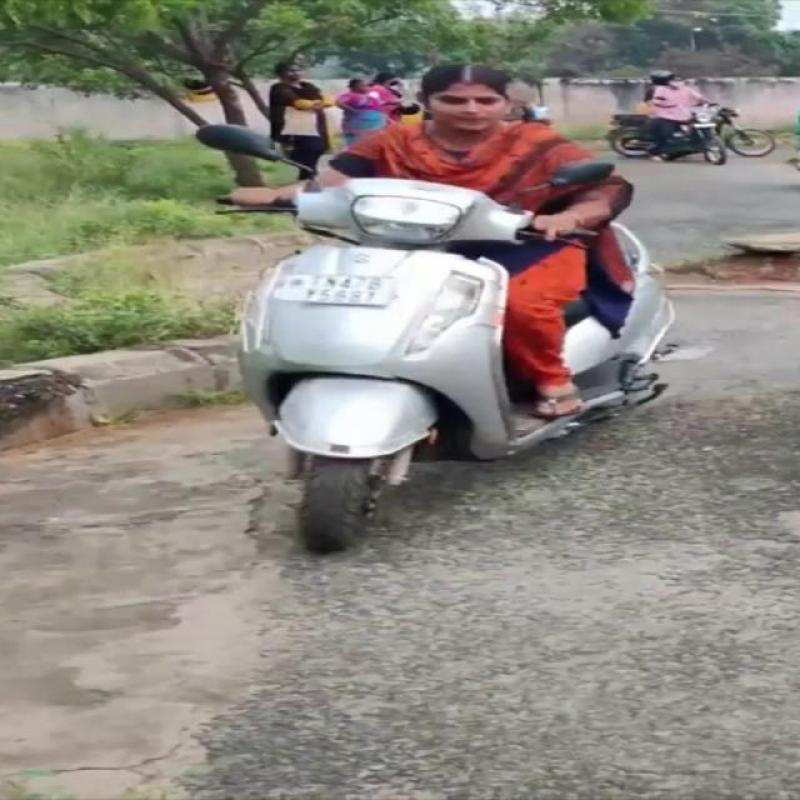nohelmet: (401, 56, 561, 154)
